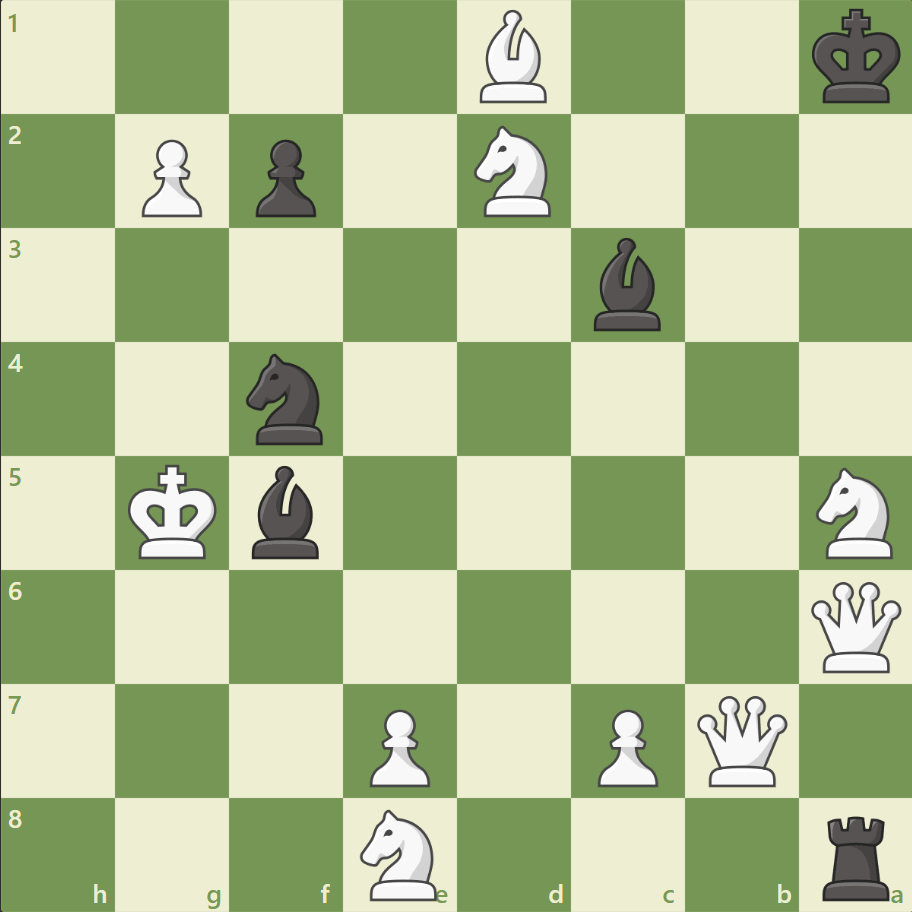B: (471, 6, 555, 109)
K: (124, 458, 224, 566)
N: (351, 802, 449, 904), (806, 461, 903, 564), (465, 121, 562, 223)
P: (133, 132, 208, 223), (588, 700, 662, 791), (361, 700, 435, 791)
Q: (805, 576, 904, 676), (691, 690, 790, 789)
b: (244, 460, 328, 563), (585, 233, 669, 336)
k: (806, 4, 906, 112)
n: (238, 348, 335, 450)
p: (247, 132, 322, 223)
r: (814, 806, 897, 904)
